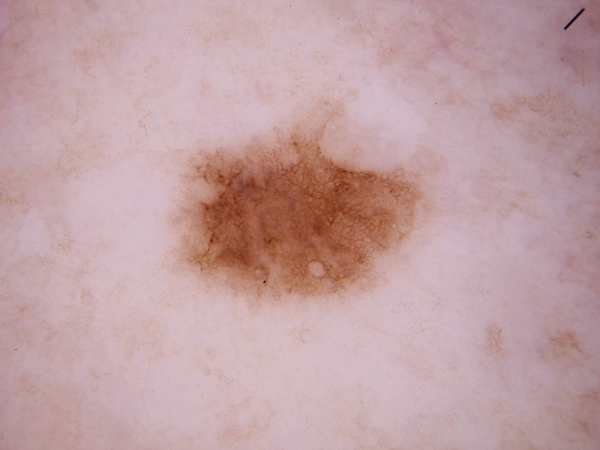Scaly: (309, 262, 327, 279)
